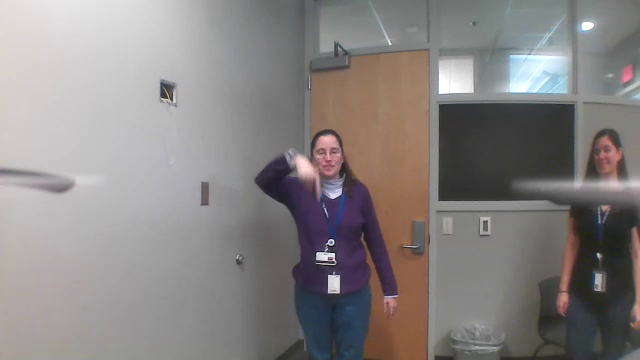down: (289, 151, 324, 209)
